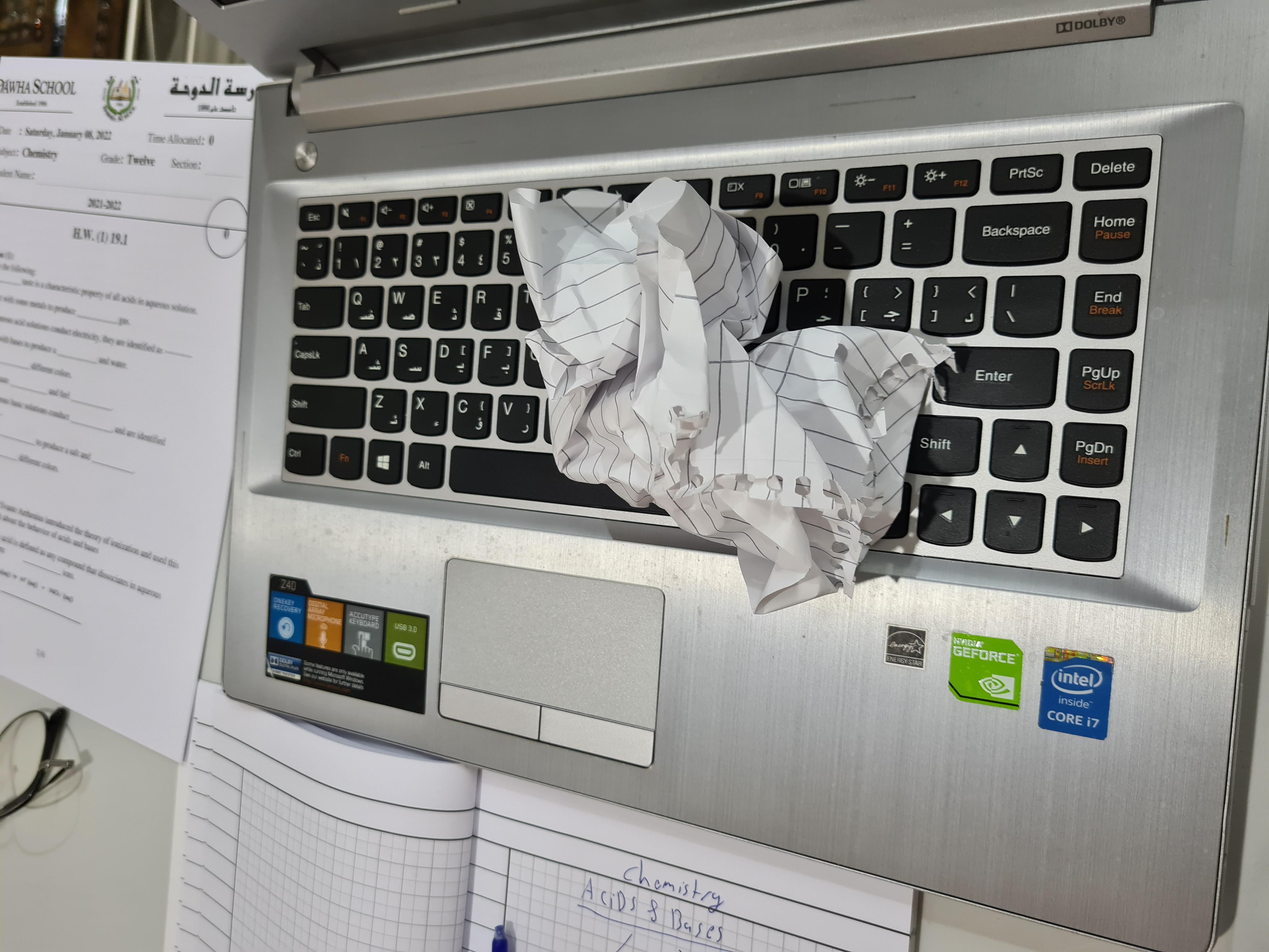paper: (450, 388, 1047, 693)
